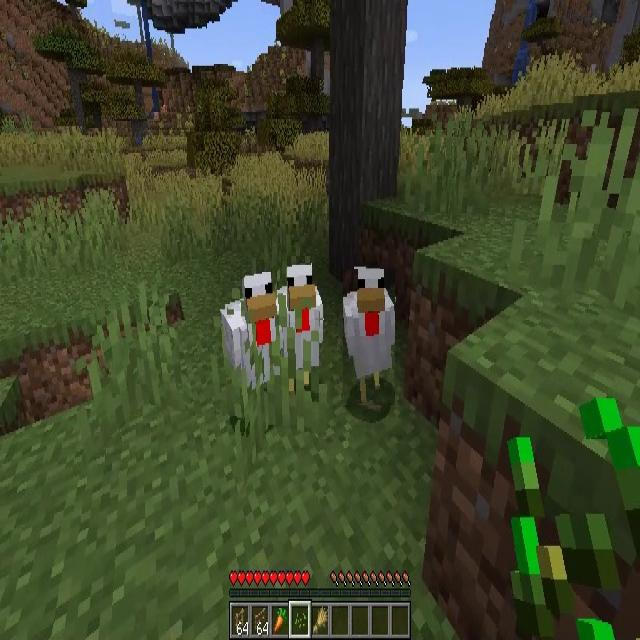duck: (218, 272, 279, 397), (343, 269, 395, 405), (282, 264, 324, 386)
